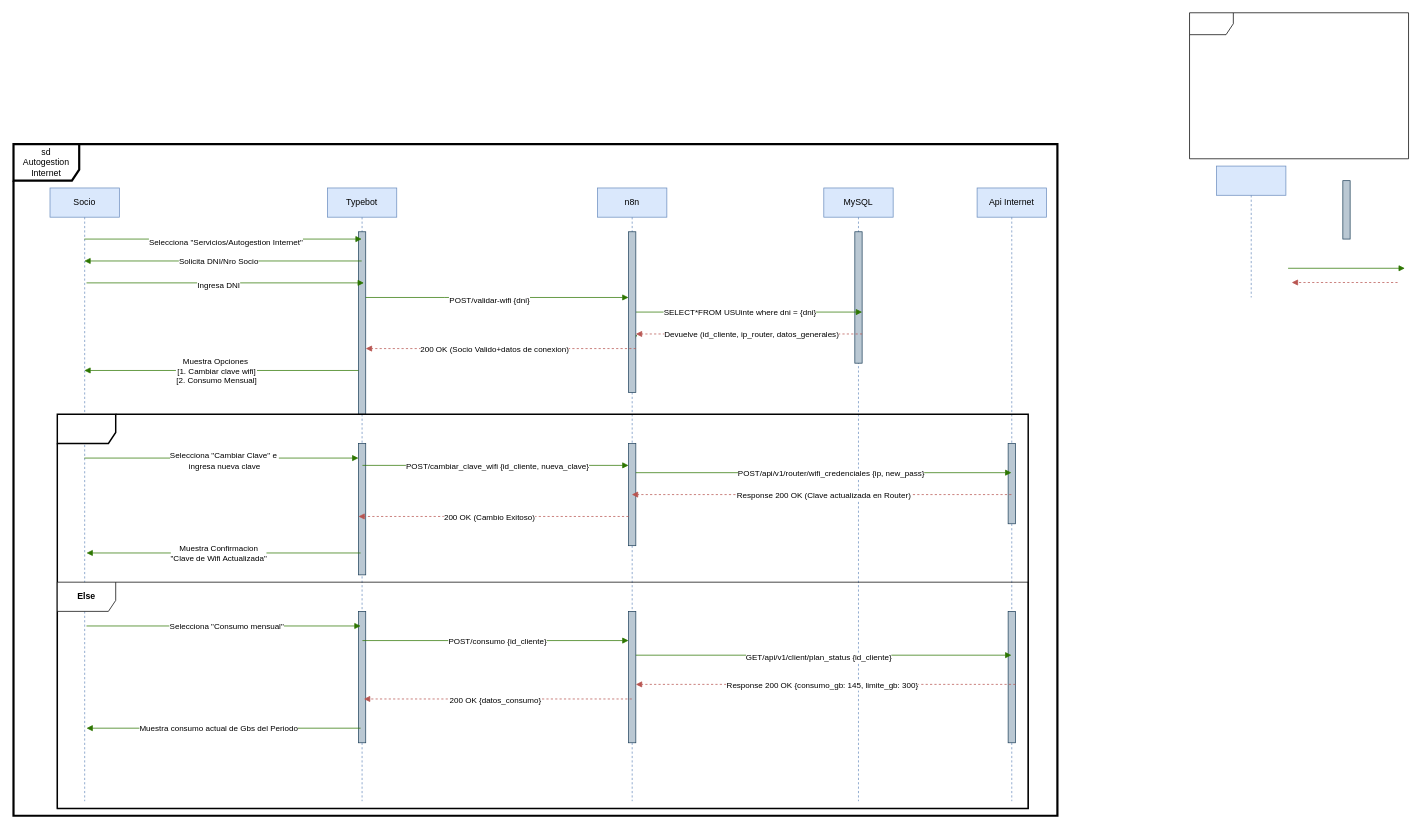
The diagram is 1424 pixels wide and 829 high, and some of its shapes have lost their labels. The box of each missing label's shape, as (x1, y1, x2, y2) in pixels:
alt [Opcion 1]: (56, 413, 1029, 809)
frame: (1189, 12, 1409, 159)
Lifeline1: (1216, 165, 1286, 297)
